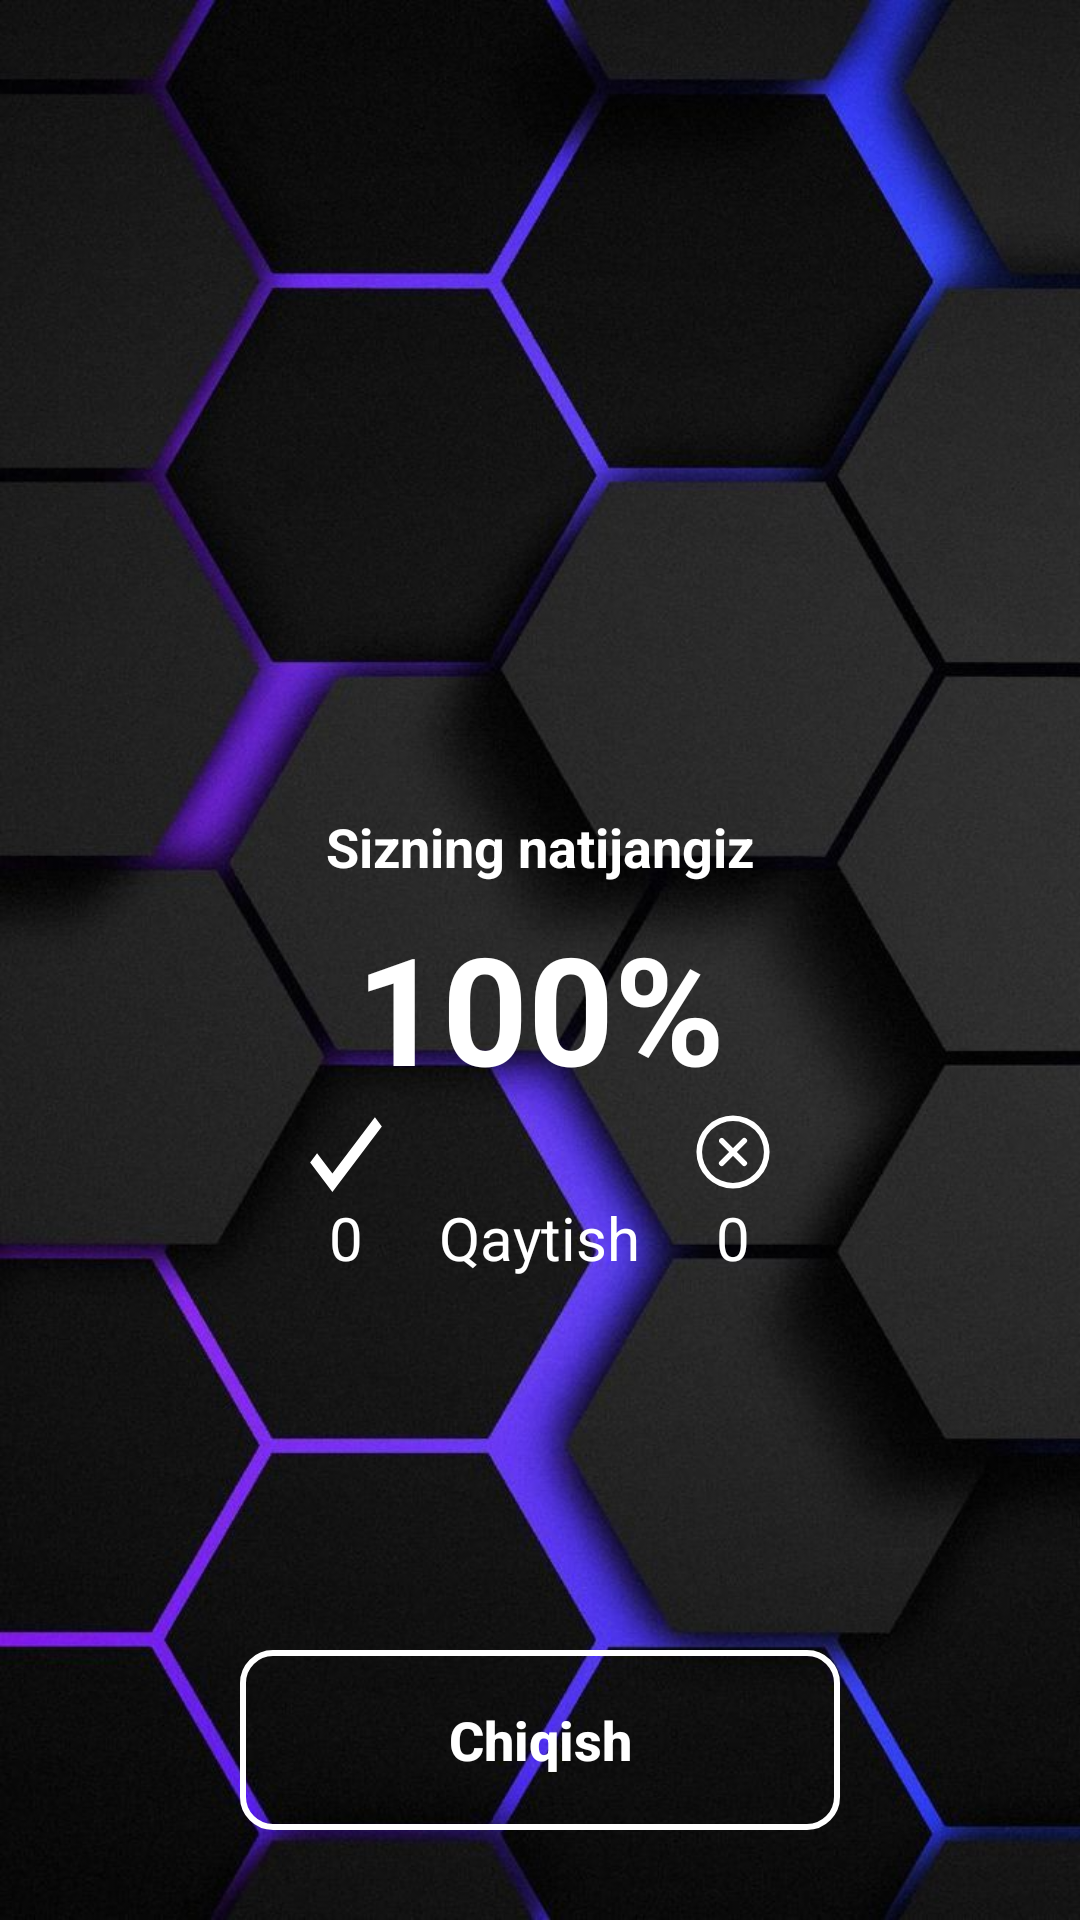

Icons on this 1080*1920 Android screen, each with its box as (x1,y1,x2,y2):
noto'g'ri: (696,1115,770,1189)
to'g'ri: (310,1117,382,1192)
